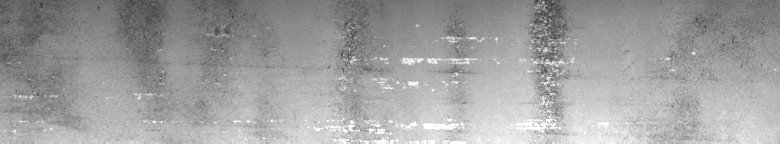hc: (665, 18, 744, 71)
